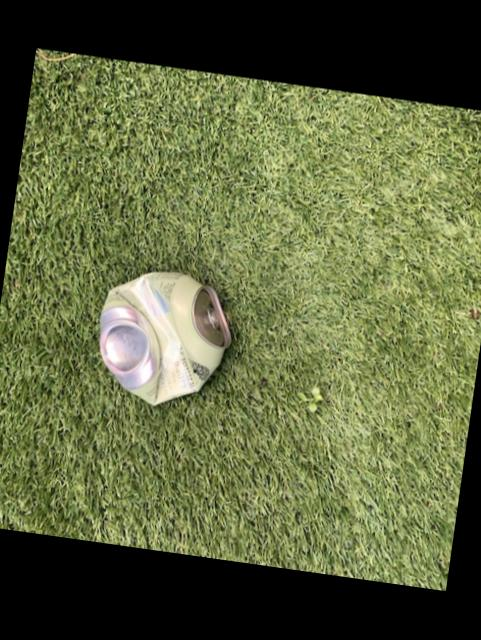metal: (97, 271, 228, 403)
